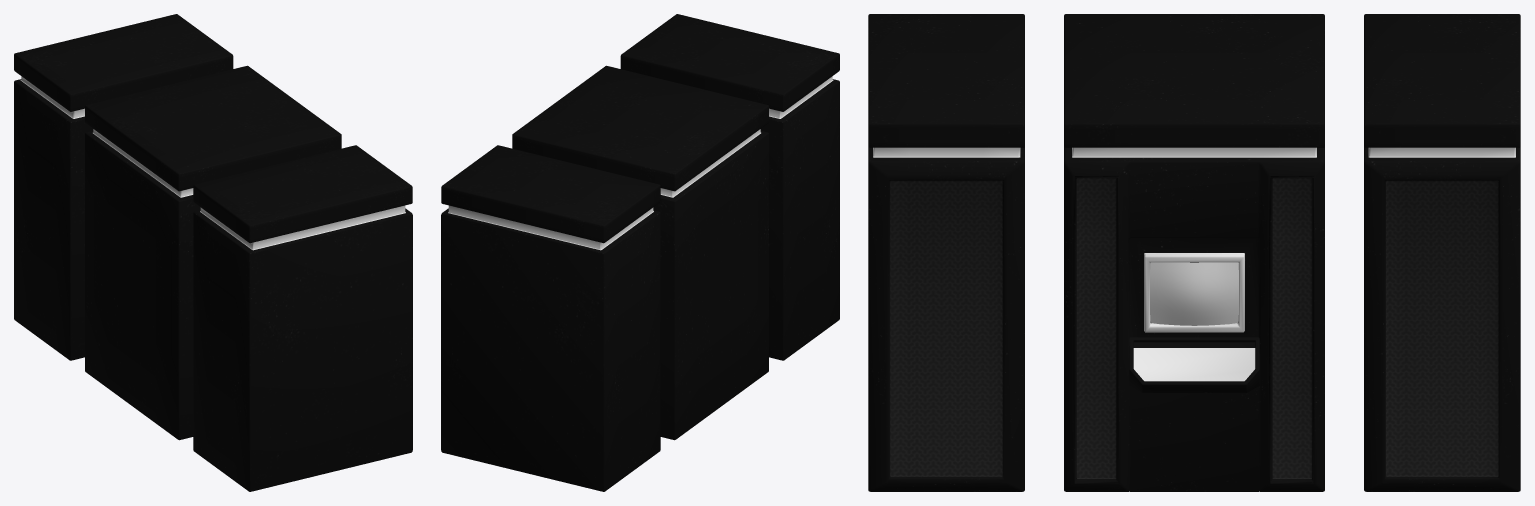
The model's file is Computer.fbx.
3 views of the same model, side by side, from view 1: azimuth 30°, elevation 25°; view 2: azimuth 150°, elevation 25°; view 3: azimuth 270°, elevation 25° (orthographic). The views are drawn at different scales.
Parts seen in each view (by area): view 1: SystemBlock, ComputerMain; view 2: SystemBlock, ComputerMain; view 3: SystemBlock, ComputerMain, ComputerPanel, ComputerScreen.
Boxes of the visible parts, x1,y1,x2,y2 form: SystemBlock: [14, 14, 412, 491]; ComputerMain: [85, 65, 341, 440]; SystemBlock: [441, 14, 839, 491]; ComputerMain: [512, 65, 768, 440]; SystemBlock: [868, 14, 1520, 491]; ComputerMain: [1064, 14, 1324, 491]; ComputerPanel: [1129, 337, 1259, 393]; ComputerScreen: [1150, 262, 1238, 325].
Bounding box in the file's own units: 2.29 × 3.12 × 5.
